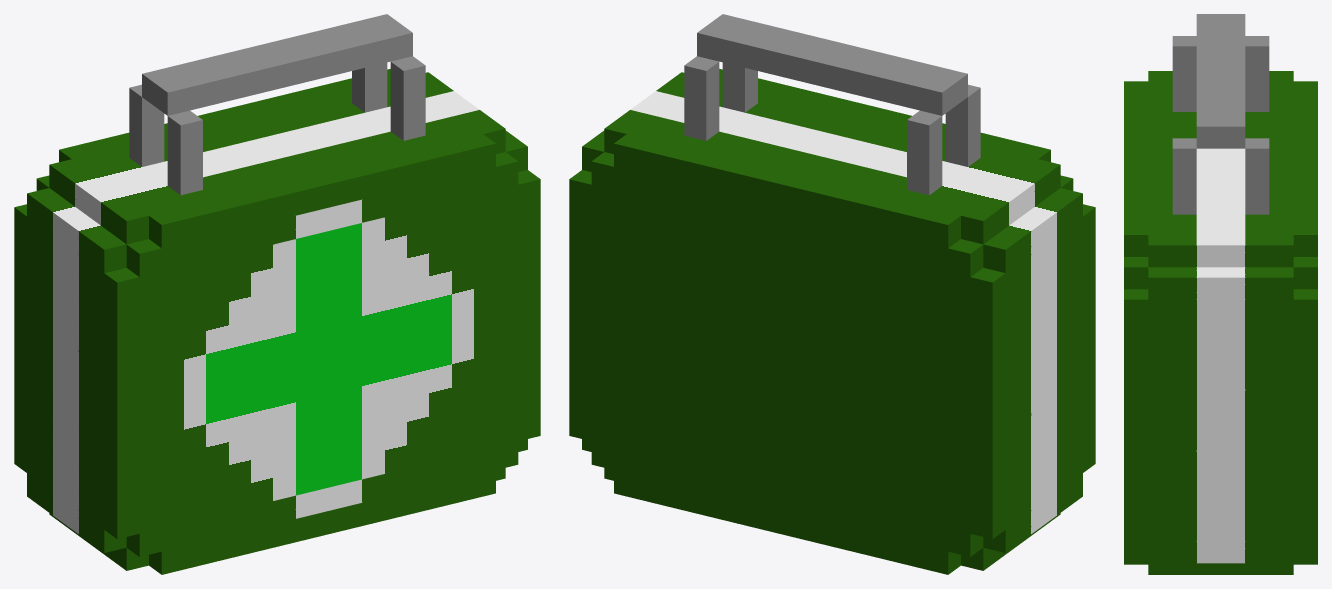
File: Medkit.glb
The picture shows the model from 3 angles, left to right: view 1: azimuth 30°, elevation 25°; view 2: azimuth 150°, elevation 25°; view 3: azimuth 270°, elevation 25°; orthographic projection. The views are drawn at different scales.
Parts seen in each view (by area): view 1: model; view 2: model; view 3: model.
Boxes of the visible parts, bbox=[...] form: model: bbox=[14, 14, 540, 574]; model: bbox=[569, 14, 1095, 574]; model: bbox=[1124, 14, 1317, 574].
Bounding box in the file's own units: 1.9 × 1.9 × 0.8.
Materials: 1 (1 with a texture image).
